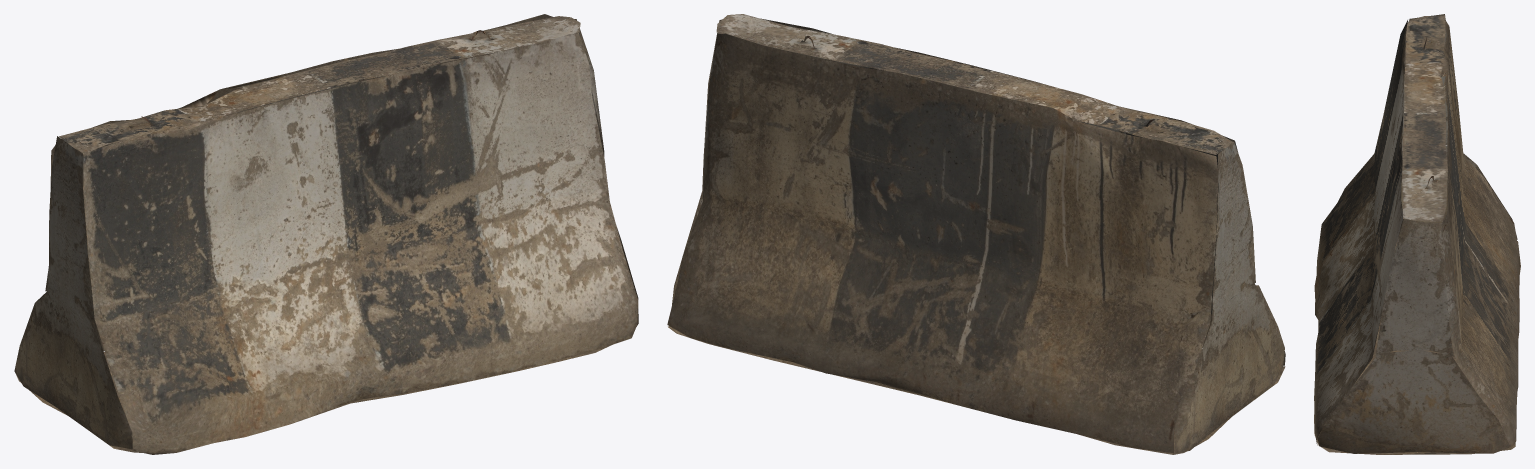
File: concrete_road_barrier_lod2.gltf
3 views of the same model, side by side, from view 1: azimuth 30°, elevation 25°; view 2: azimuth 150°, elevation 25°; view 3: azimuth 270°, elevation 25° (orthographic). The views are drawn at different scales.
Parts seen in each view (by area): view 1: concrete_road_barrier_lod2; view 2: concrete_road_barrier_lod2; view 3: concrete_road_barrier_lod2.
Boxes of the visible parts, left/top/right/bottom form: concrete_road_barrier_lod2: left=14, top=14, right=638, bottom=454; concrete_road_barrier_lod2: left=667, top=14, right=1285, bottom=454; concrete_road_barrier_lod2: left=1314, top=14, right=1520, bottom=454.
Size of the model in its own units: 1.54 by 0.8256 by 0.6356.
1 material, 1 textured.
